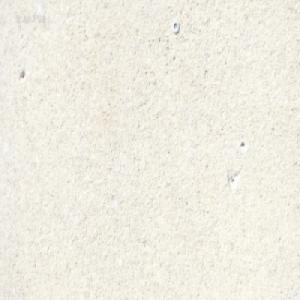Washer: (171, 20, 179, 34)
